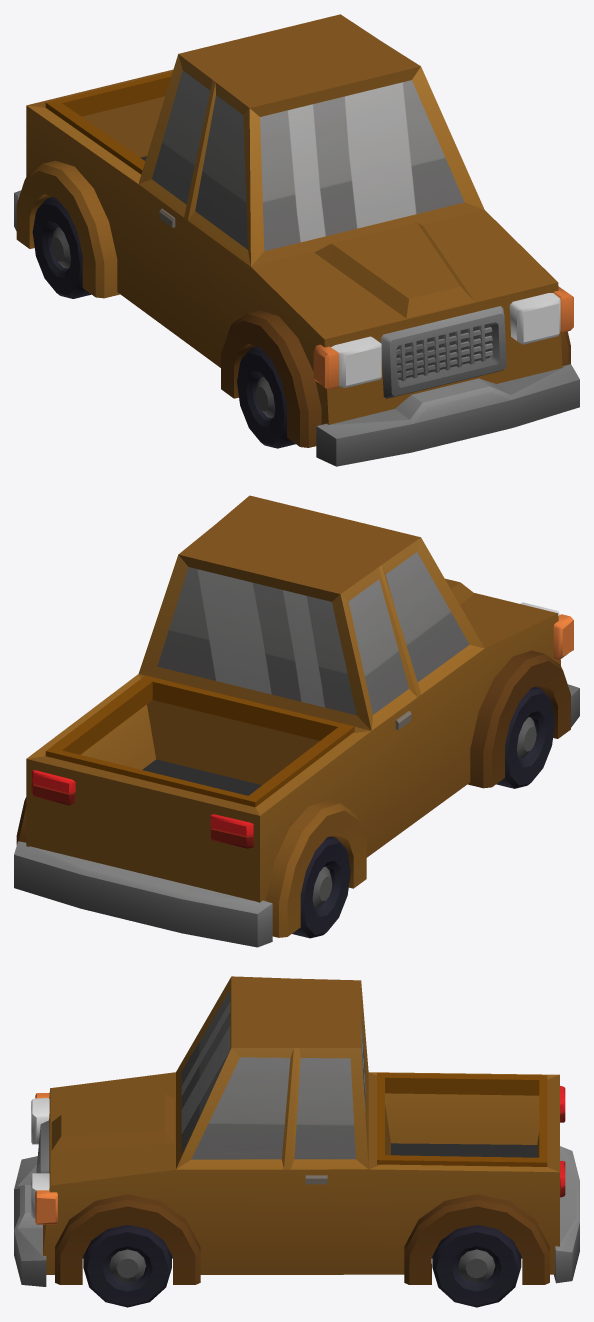
The model's file is PickUp_3.fbx.
3 views of the same model, one above another, from view 1: azimuth 30°, elevation 25°; view 2: azimuth 150°, elevation 25°; view 3: azimuth 270°, elevation 25° (orthographic). The views are drawn at different scales.
Parts seen in each view (by area): view 1: PickUp_3, BWhel_BR, BWhel_FR; view 2: PickUp_3, BWhel_BR, BWhel_FR; view 3: PickUp_3, BWhel_BL, BWhel_FL.
Boxes of the visible parts, left/top/right/bottom form: PickUp_3: left=14, top=14, right=579, bottom=466; BWhel_BR: left=32, top=197, right=91, bottom=298; BWhel_FR: left=237, top=346, right=295, bottom=448; PickUp_3: left=14, top=495, right=579, bottom=947; BWhel_BR: left=292, top=836, right=350, bottom=938; BWhel_FR: left=496, top=687, right=554, bottom=788; PickUp_3: left=14, top=976, right=579, bottom=1286; BWhel_BL: left=432, top=1225, right=521, bottom=1307; BWhel_FL: left=83, top=1225, right=171, bottom=1307.
Bounding box in the file's own units: 1.09 × 1.08 × 2.3.
